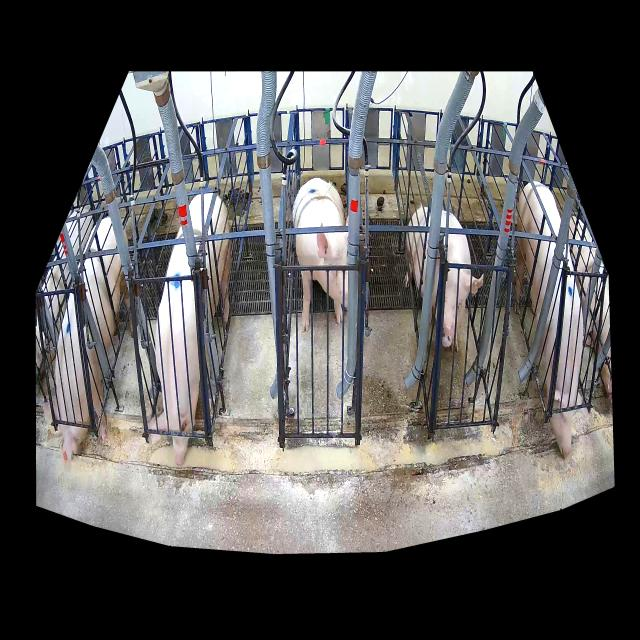pig: (150, 193, 230, 465), (515, 181, 590, 457), (53, 218, 133, 463), (404, 207, 484, 353), (292, 178, 348, 330)
